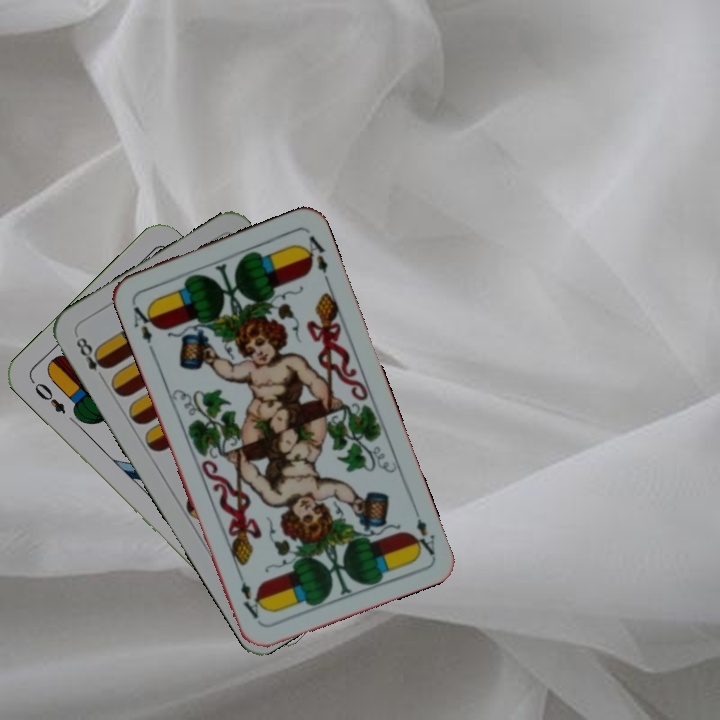E8: (72, 333, 111, 384)
EA: (407, 501, 438, 559), (129, 302, 160, 354)
EO: (27, 376, 69, 417)
